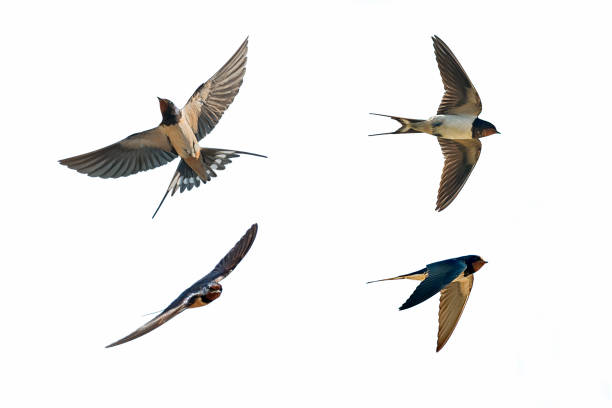Bird: (57, 31, 271, 218), (365, 32, 502, 212), (100, 222, 258, 350), (360, 250, 492, 360)
